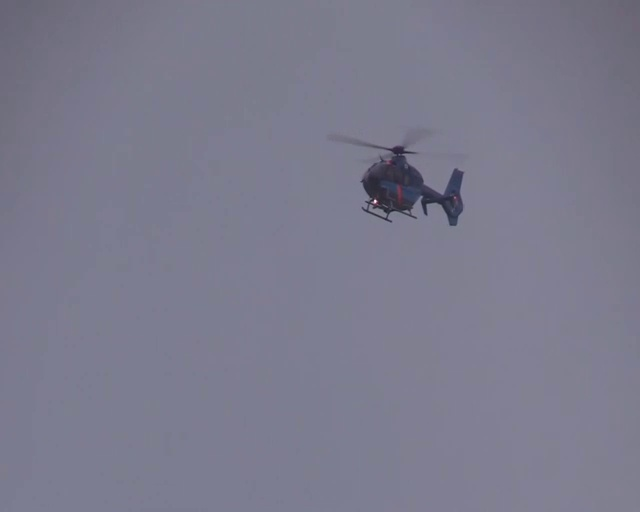HELICOPTER: (325, 127, 468, 225)
